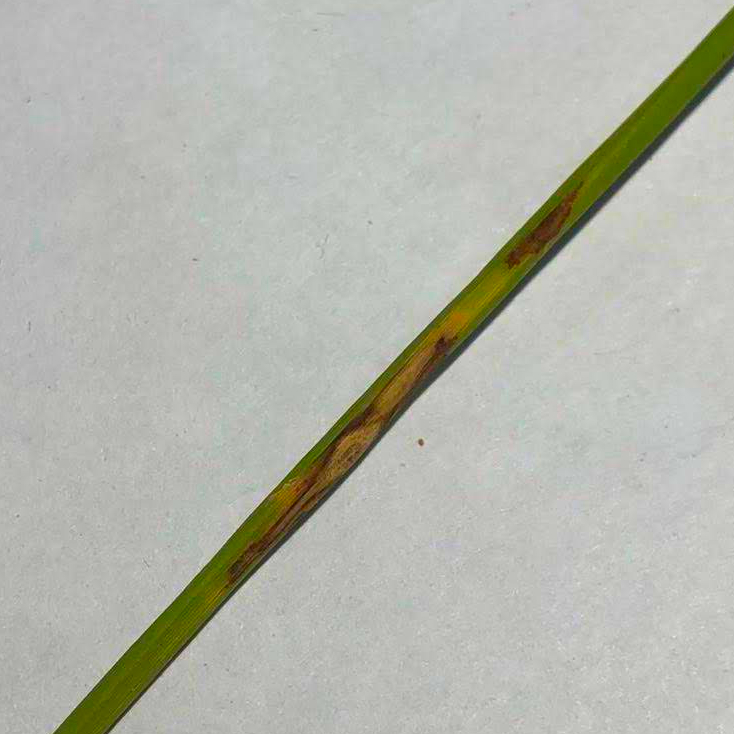leaf blast: (56, 3, 733, 734)
